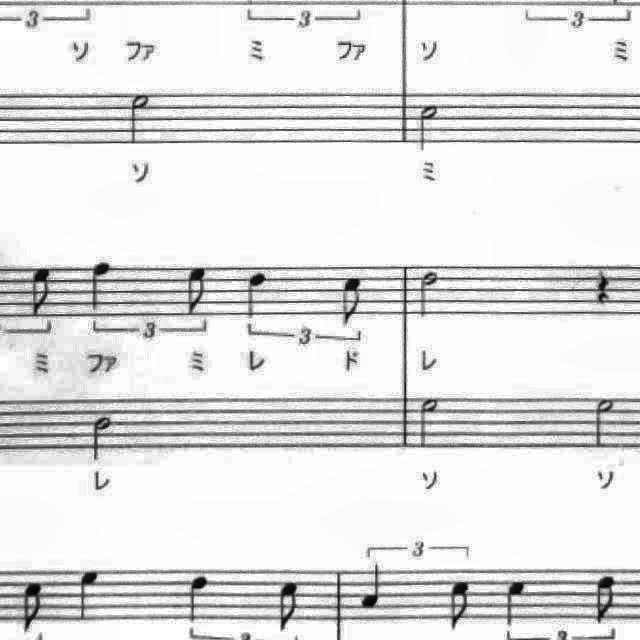Eighth-note: (586, 568, 626, 630), (15, 575, 52, 637), (271, 576, 309, 636), (24, 260, 60, 320), (440, 576, 476, 636), (178, 260, 214, 318), (336, 272, 370, 332)
Half-note: (587, 391, 625, 453), (122, 86, 158, 148), (410, 99, 446, 158), (414, 391, 446, 453), (88, 412, 120, 468), (414, 266, 444, 324)
Quarter-note: (70, 564, 106, 628), (498, 572, 536, 632), (180, 568, 216, 628), (238, 264, 274, 322), (83, 256, 117, 316), (356, 560, 390, 616)
Quarter-rest: (588, 262, 618, 310)
